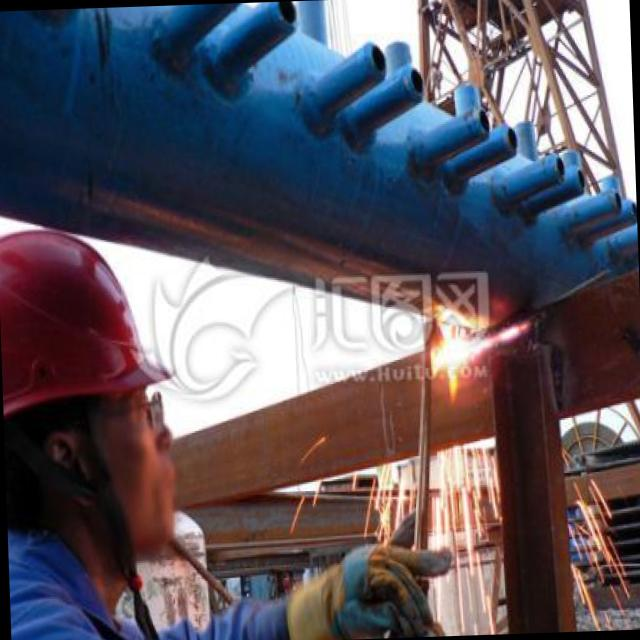helmet: (0, 163, 211, 592)
